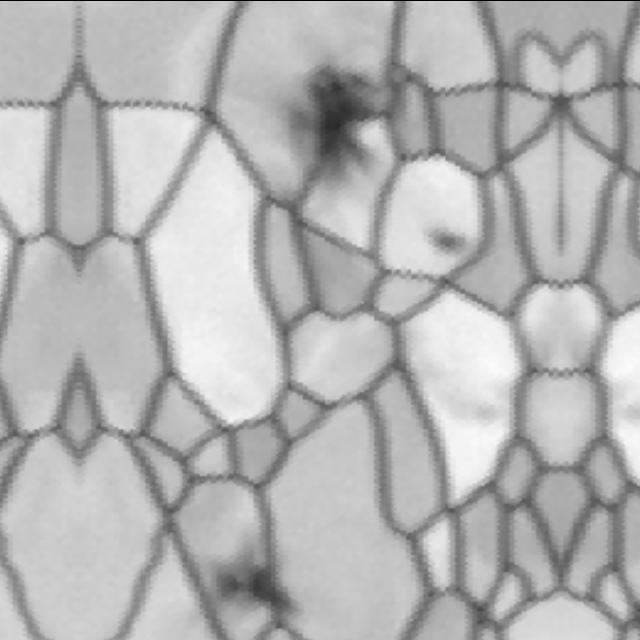good_void: (274, 45, 409, 201), (193, 523, 318, 640), (403, 345, 497, 437), (415, 223, 469, 267)
